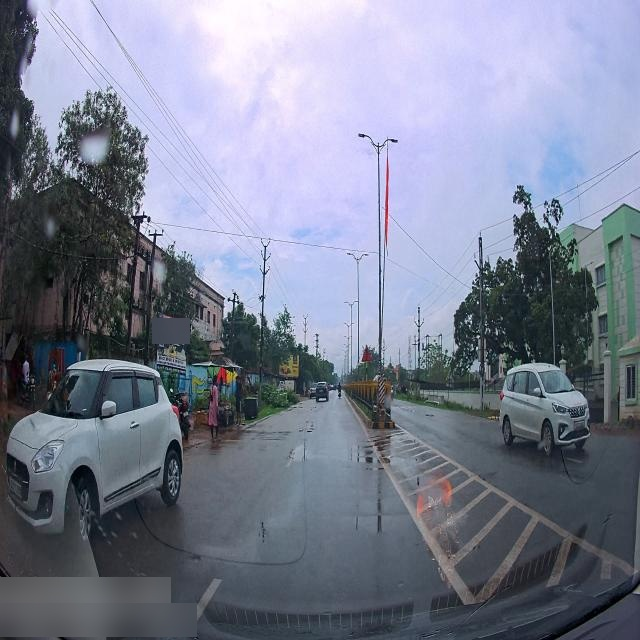pothole: (352, 512, 398, 537), (291, 440, 317, 466), (348, 450, 383, 469), (302, 428, 318, 434)
